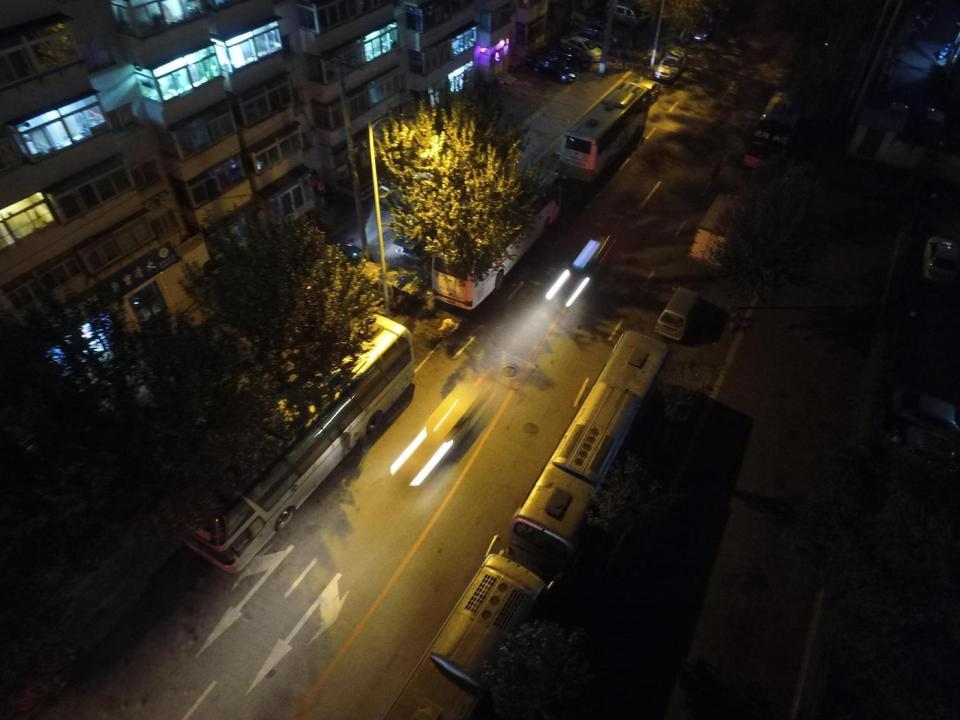bus: (164, 312, 415, 574), (509, 328, 671, 557), (382, 554, 548, 720), (432, 169, 565, 310), (558, 79, 649, 184), (743, 64, 811, 177)
car: (291, 241, 381, 290), (892, 387, 959, 435), (896, 429, 960, 475), (918, 238, 957, 286), (524, 52, 578, 82), (543, 43, 592, 70), (580, 18, 623, 44), (654, 47, 683, 84), (562, 37, 602, 62), (692, 15, 727, 43), (576, 31, 619, 51), (626, 79, 661, 101)
truck: (690, 192, 760, 276)
van: (655, 287, 703, 340), (598, 6, 642, 26)
